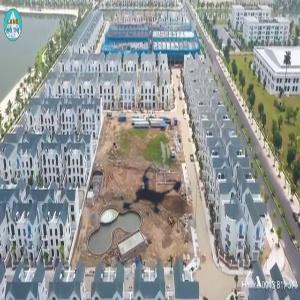drone: (87, 131, 216, 260)
